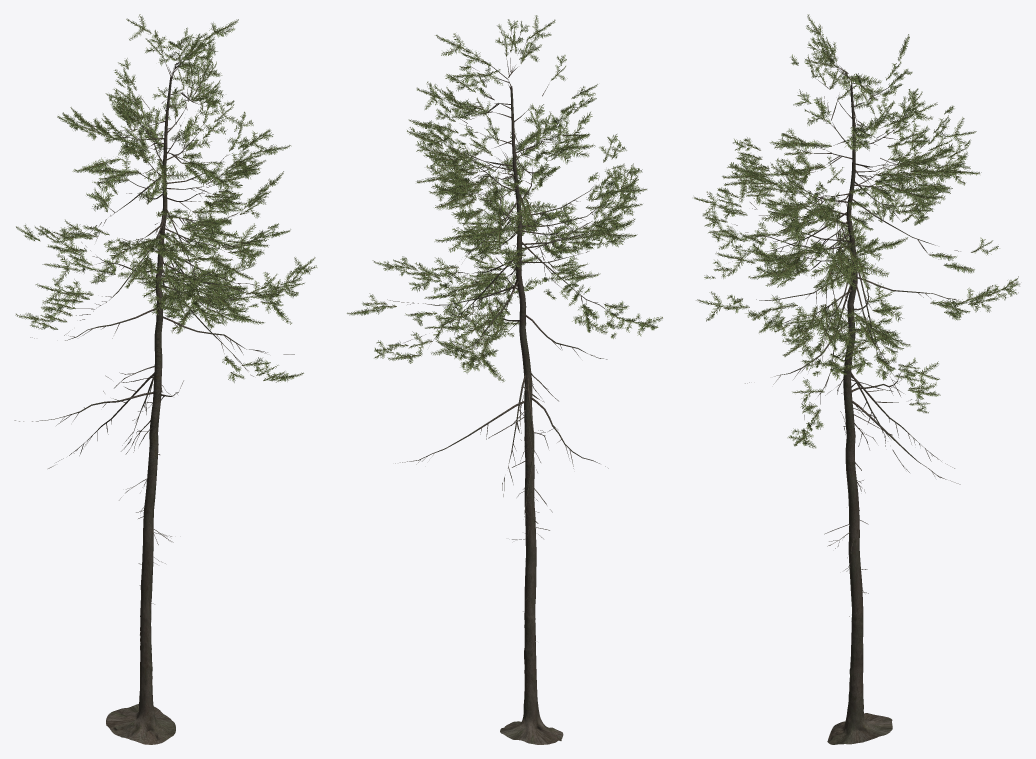
Rendered from fir_tree_01.glb.
3 views of the same model, side by side, from view 1: azimuth 30°, elevation 25°; view 2: azimuth 150°, elevation 25°; view 3: azimuth 270°, elevation 25° (orthographic). The views are drawn at different scales.
Visible parts, largest first — view 1: Stanley conifer; view 2: Stanley conifer; view 3: Stanley conifer.
Boxes of the visible parts, bbox=[...] form: Stanley conifer: bbox=[14, 14, 317, 744]; Stanley conifer: bbox=[347, 15, 662, 744]; Stanley conifer: bbox=[694, 14, 1019, 744].
Size of the model in its own units: 6.31 by 14.52 by 5.97.
4 materials, 4 textured.
